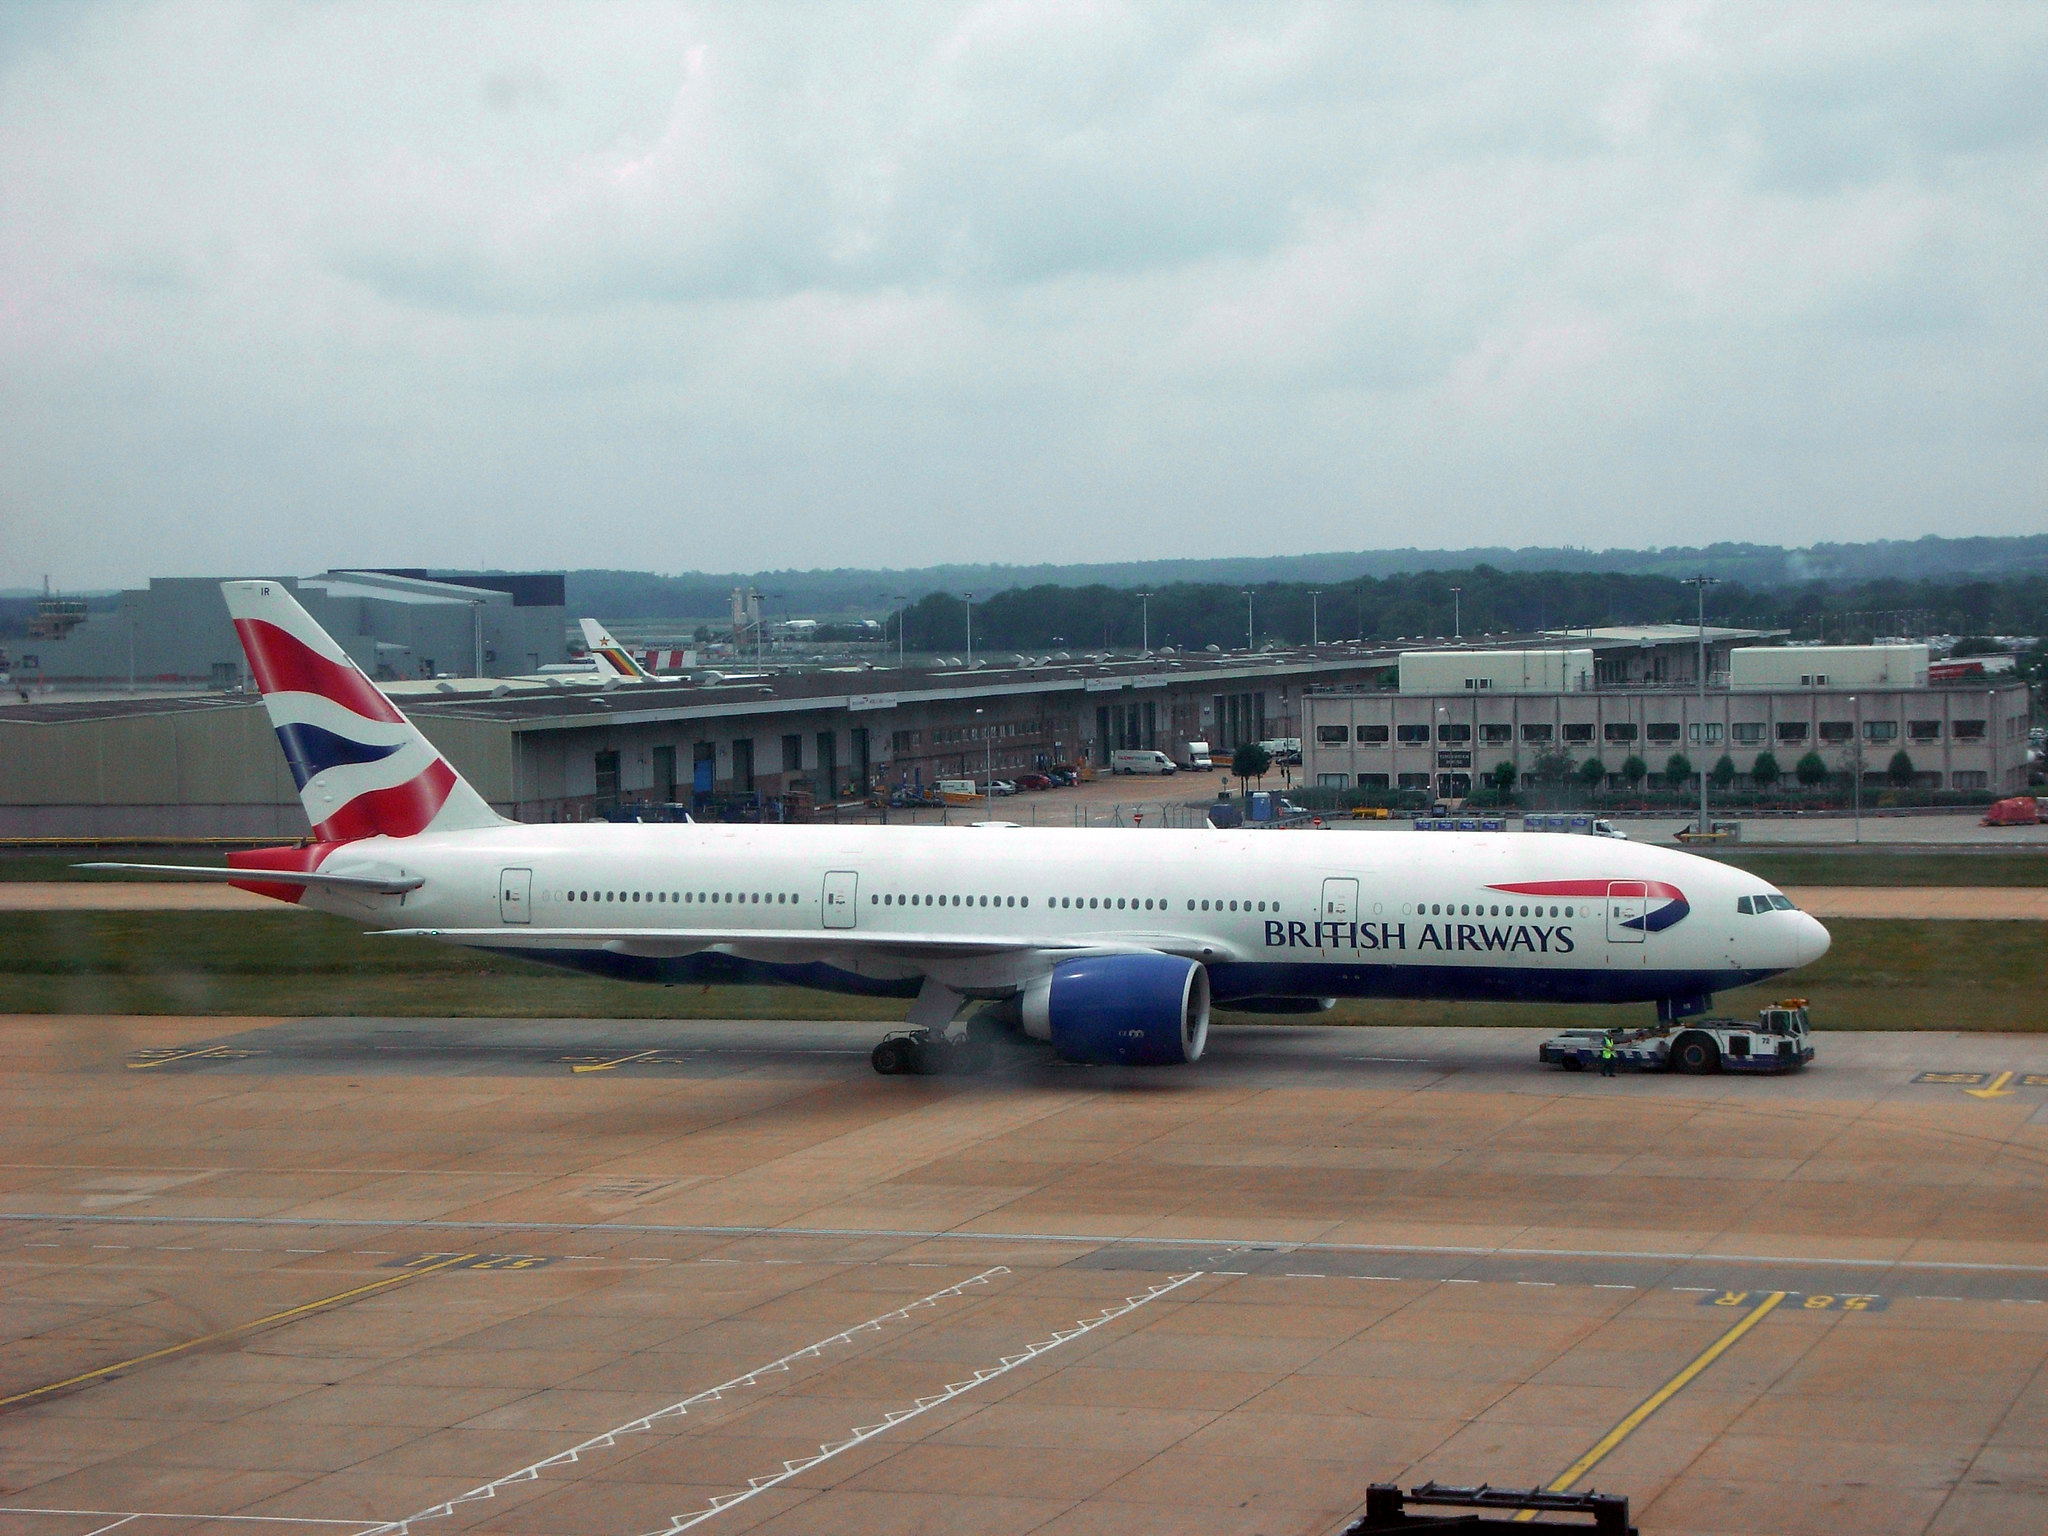aeroplane: (214, 574, 1838, 1107)
